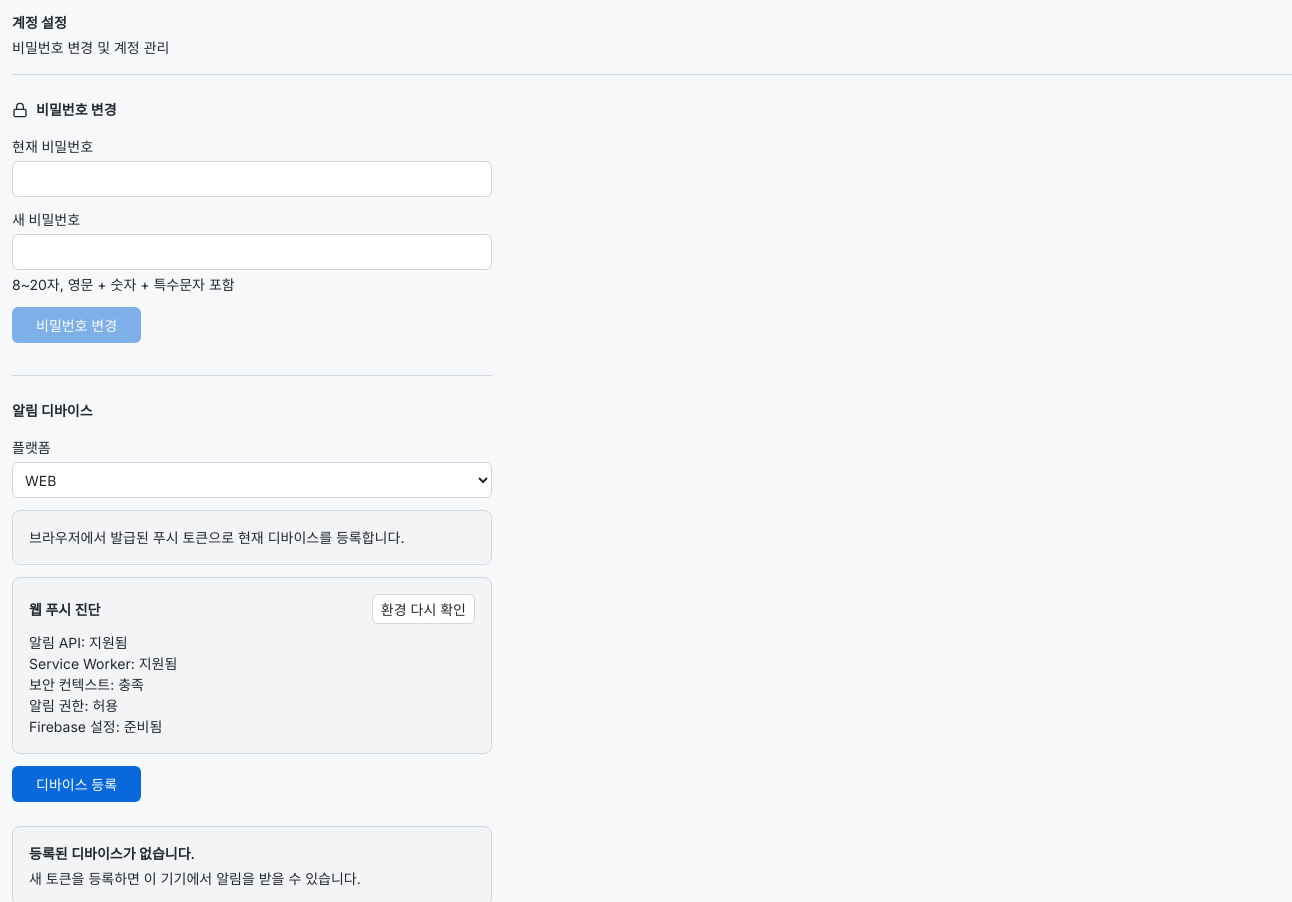
Test: AccountSettingsPage › unregisters the currently registered push token
Select "ANDROID" in the dropdown labelled "플랫폼" at (252, 480), box [12,462,492,498]
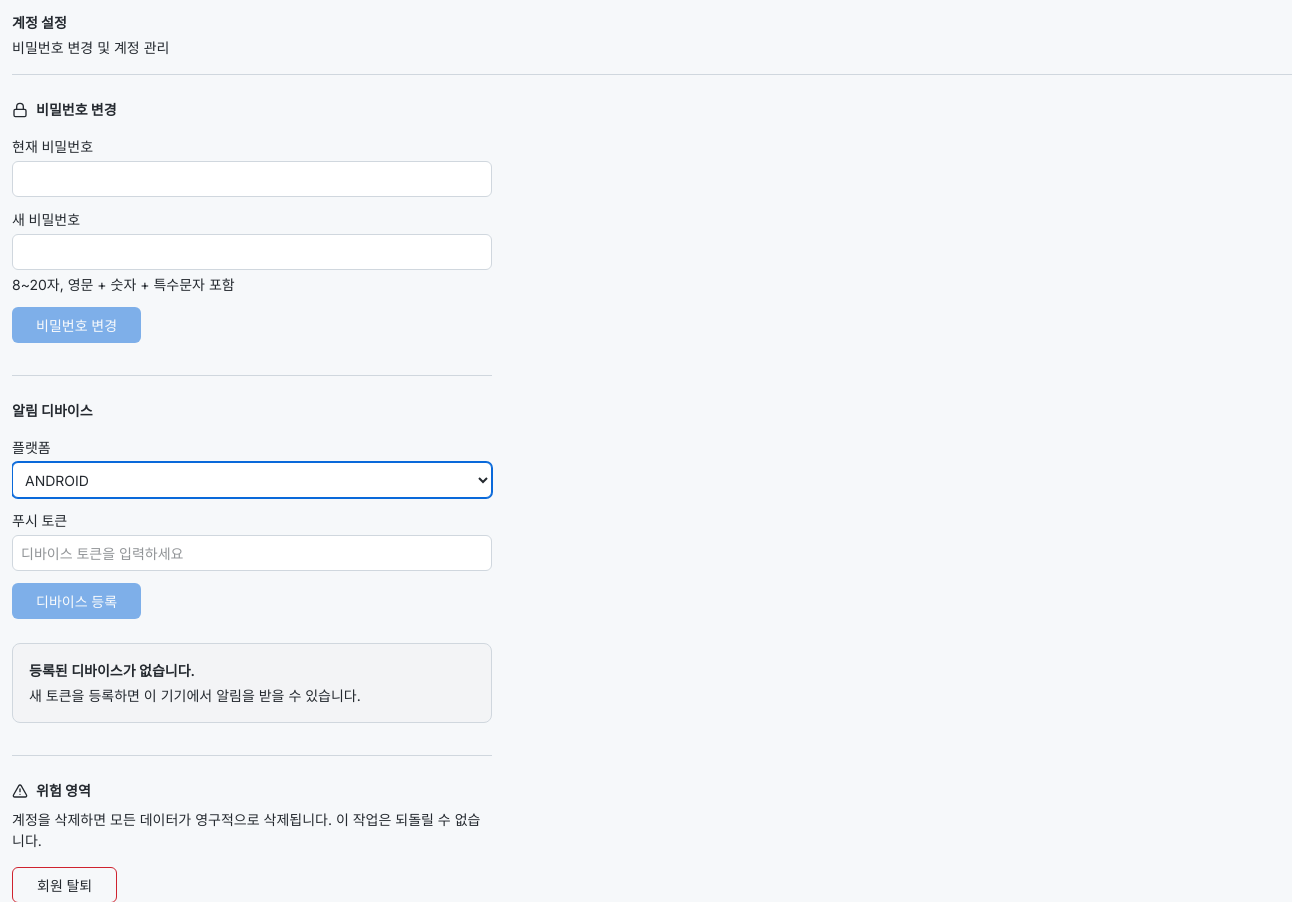
Type "android-token-9" into the field labelled "푸시 토큰" at (252, 553), box [12,535,492,571]
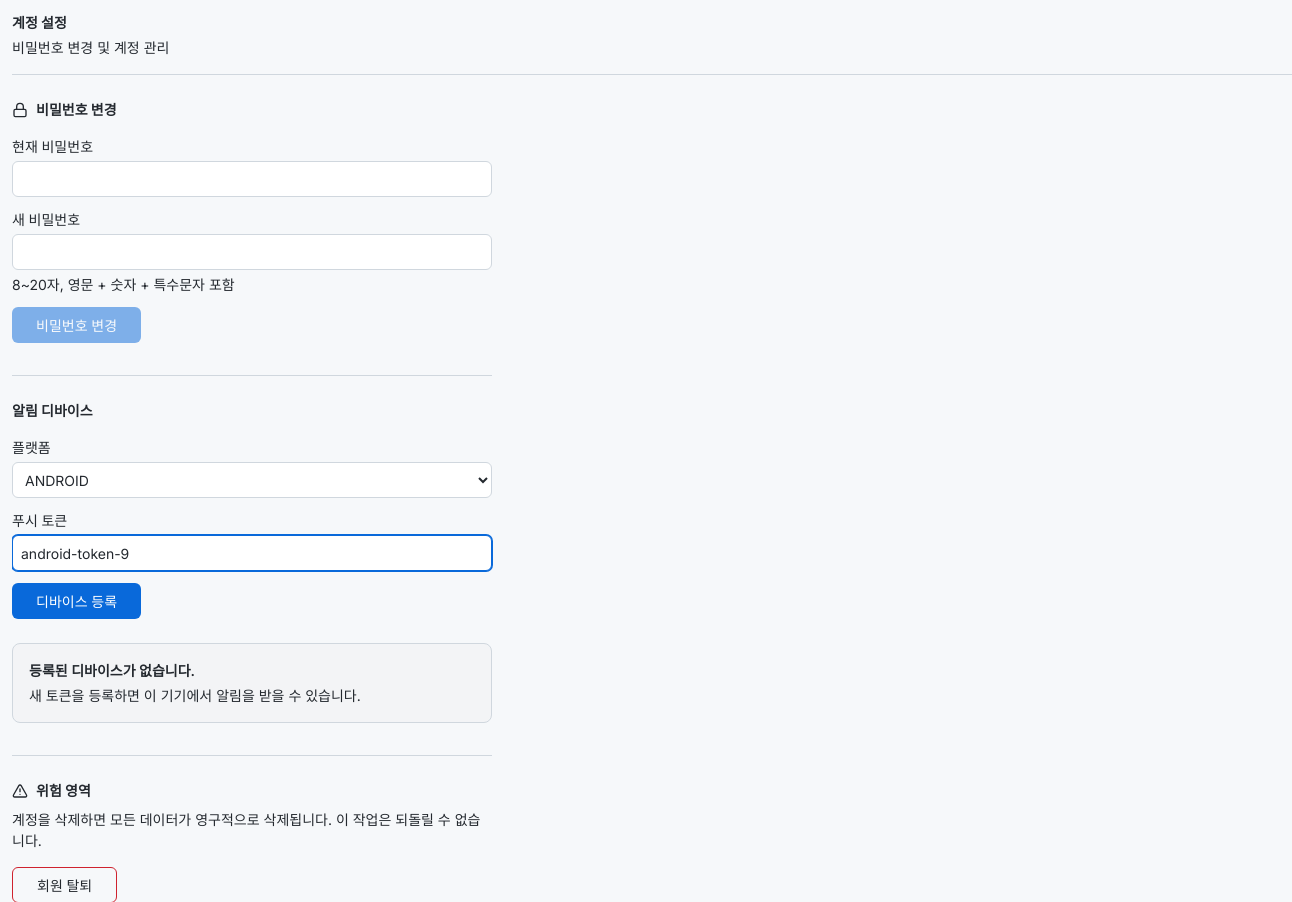
Click the button "디바이스 등록" at (76, 601), box [12,583,141,619]
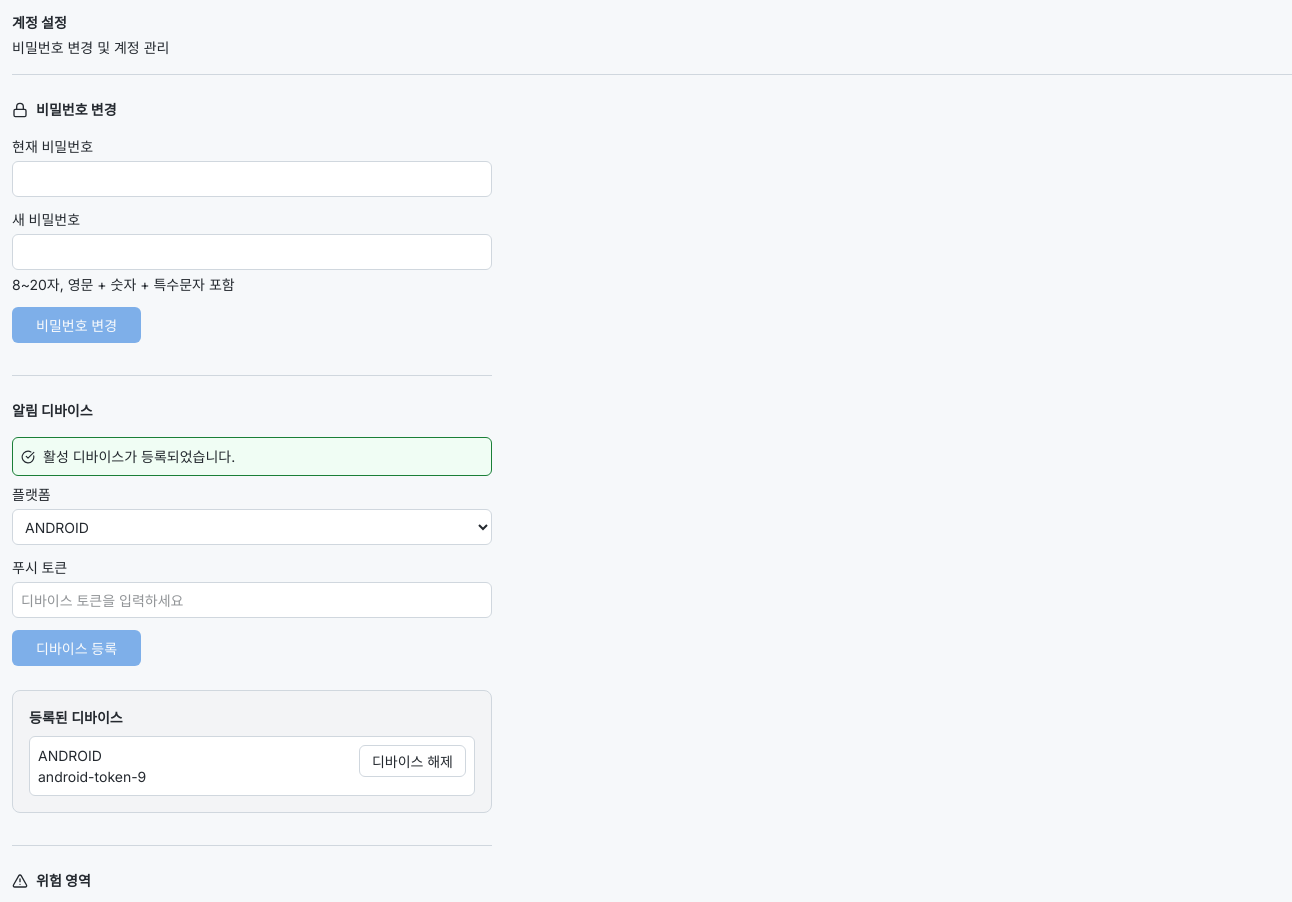
Check: the heading "등록된 디바이스" is shown, box [29,709,123,726]
Click the button with aria-label "디바이스 해제 android-token-9" at (412, 761), box [359,745,466,777]
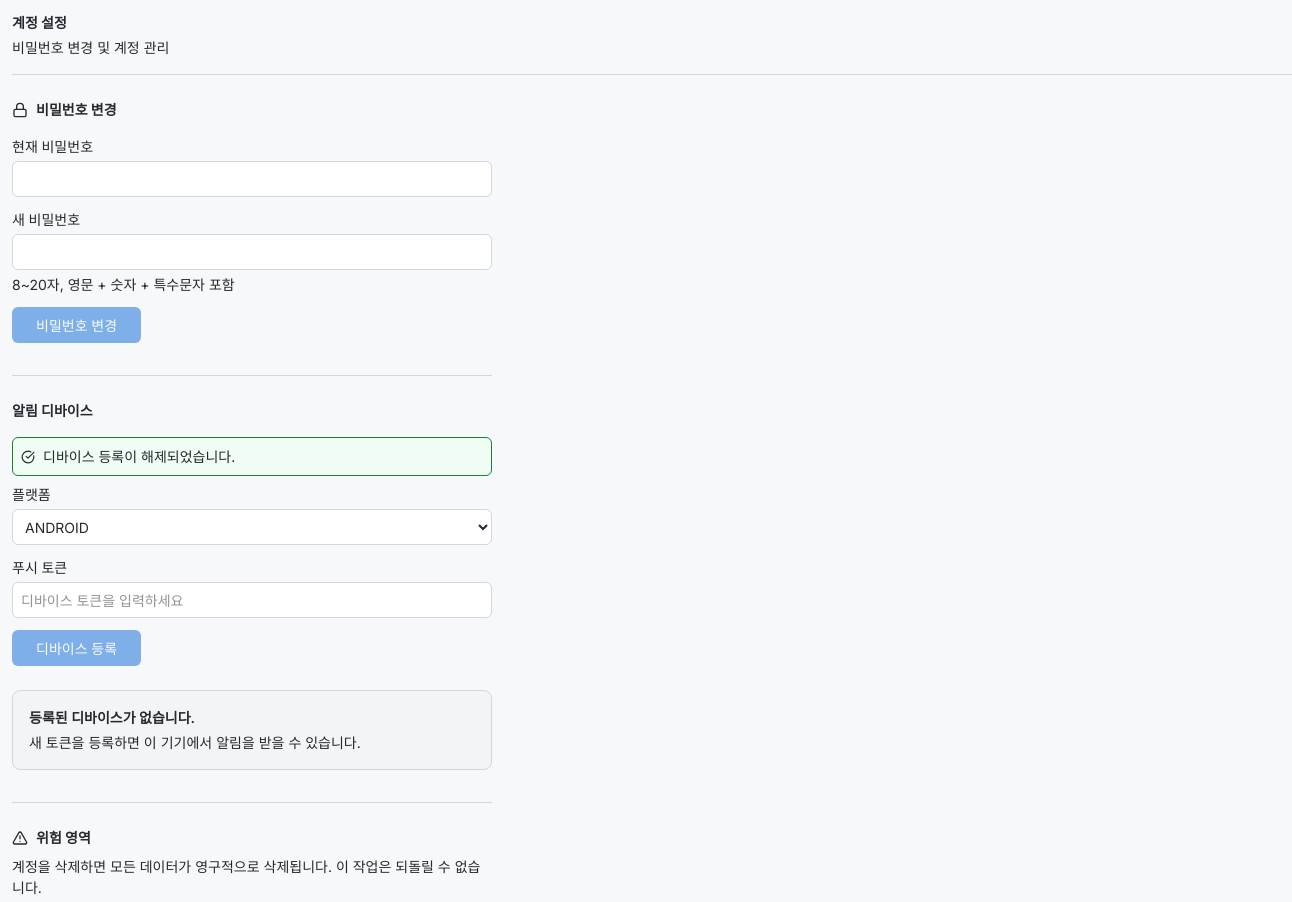
Check: the text "디바이스 등록이 해제되었습니다." is shown, box [12,437,492,476]
